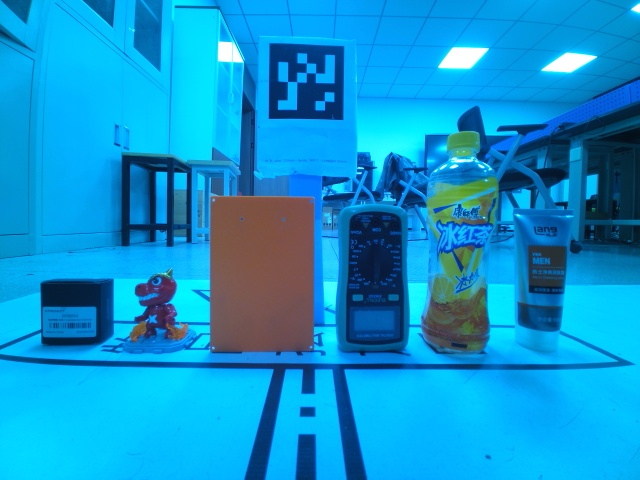banzi: (39, 277, 115, 346)
binghongcha: (121, 267, 197, 354)
dabao: (513, 207, 574, 354)
dianbiao: (422, 130, 496, 356)
hezi: (334, 203, 411, 354)
long: (209, 193, 316, 354)
